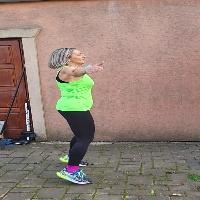jumping_jacks: (42, 42, 116, 183)
